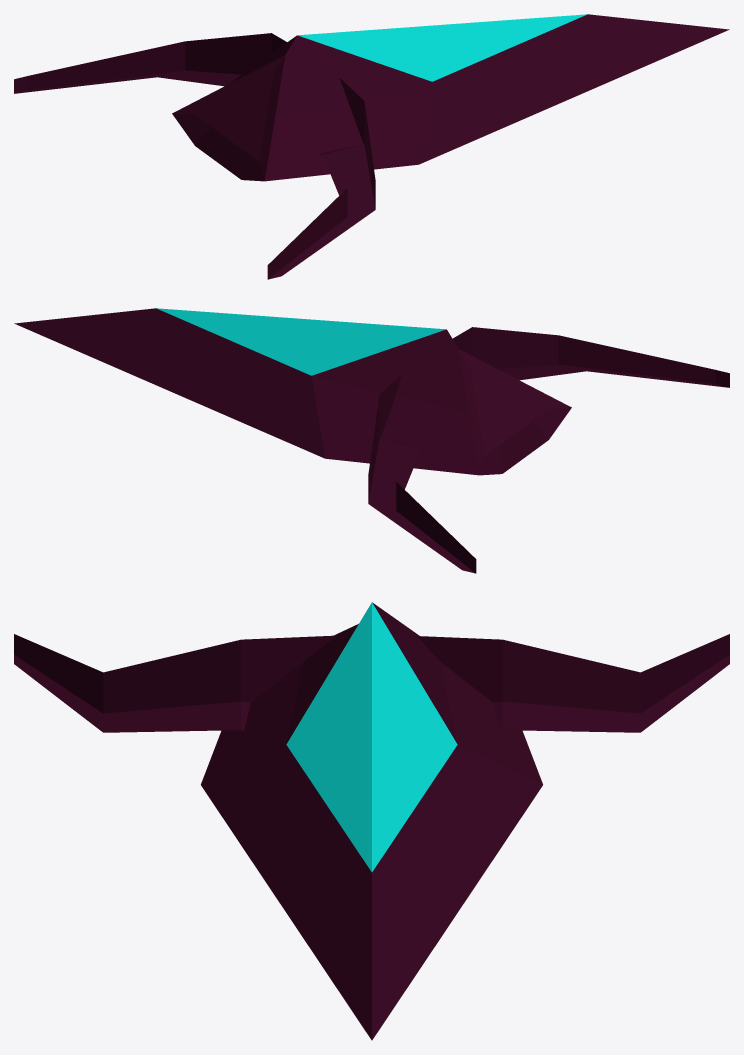
Rendered from SpaceShip1.fbx.
3 views of the same model, one above another, from view 1: azimuth 30°, elevation 25°; view 2: azimuth 150°, elevation 25°; view 3: azimuth 270°, elevation 25° (orthographic). The views are drawn at different scales.
Visible parts, largest first — view 1: Cube; view 2: Cube; view 3: Cube.
Part boxes in pixels (<box>): Cube: <box>14,14,729,279</box>; Cube: <box>14,308,729,573</box>; Cube: <box>14,602,729,1040</box>.
Bounding box in the file's own units: 792 × 148 × 591.
